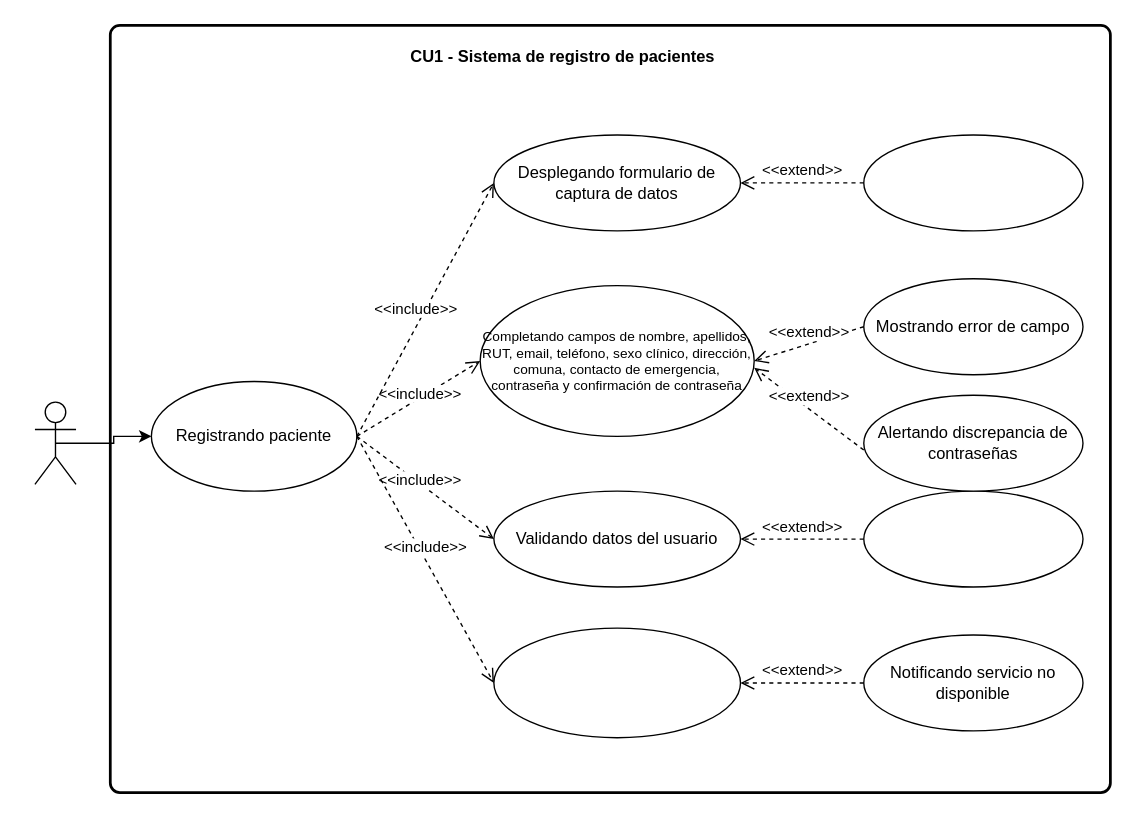
This 1136x817 diagram has some shape labels left out. Each missing label, with the centre of its shape:
"Alertando error de red" goes at (972,538).
"Cargando incorrectamente la interfaz" goes at (972,182).
"Cifrando y persistiendo perfil inactivo y despachando OTP" goes at (616,682).
"Paciente" goes at (55,442).
